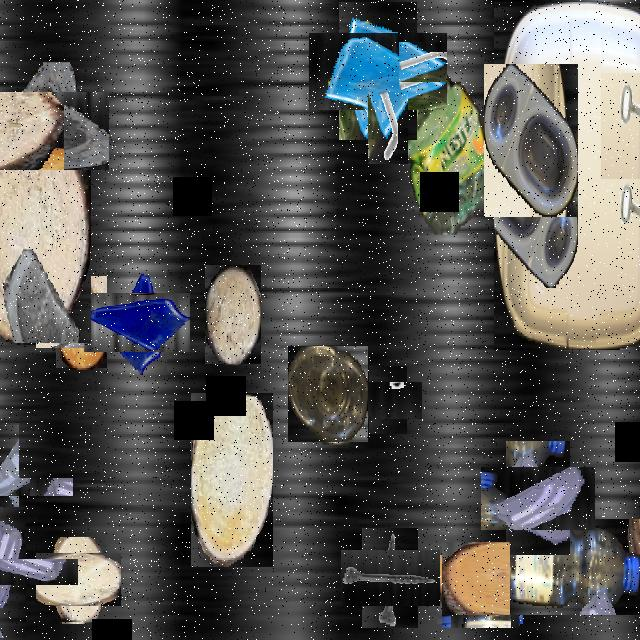glass: (324, 17, 432, 125), (0, 77, 94, 185), (493, 453, 582, 542), (95, 280, 178, 364), (0, 533, 52, 611), (0, 450, 46, 523)
metal: (351, 539, 429, 617), (601, 73, 640, 179), (368, 92, 408, 164), (362, 374, 414, 426)
plastic: (494, 2, 640, 350), (364, 21, 494, 235), (484, 64, 578, 217), (510, 519, 640, 615), (288, 347, 368, 442)
wood: (0, 109, 91, 343), (191, 393, 273, 567), (439, 544, 521, 626), (205, 265, 261, 364), (46, 286, 118, 358), (44, 545, 114, 614)
